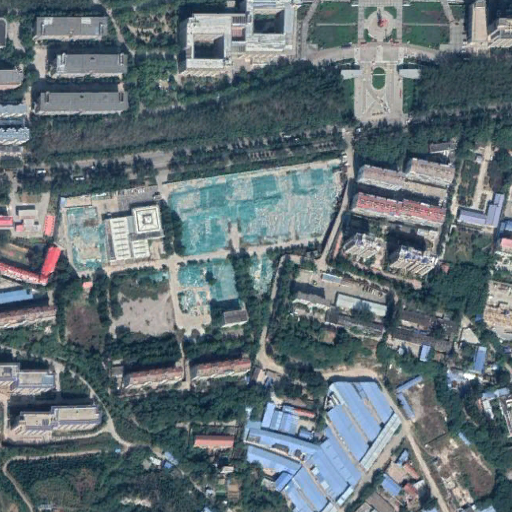cw: (166, 155, 345, 308), (65, 193, 108, 267)
